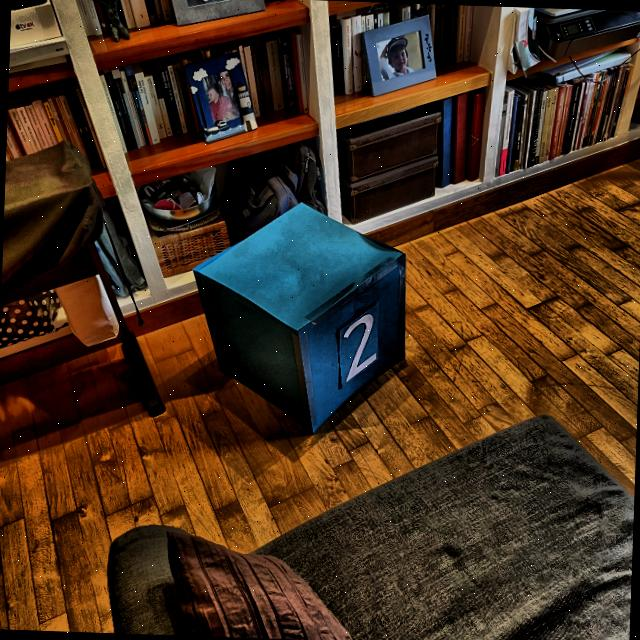blue box: (180, 191, 414, 441)
two: (334, 311, 380, 386)
